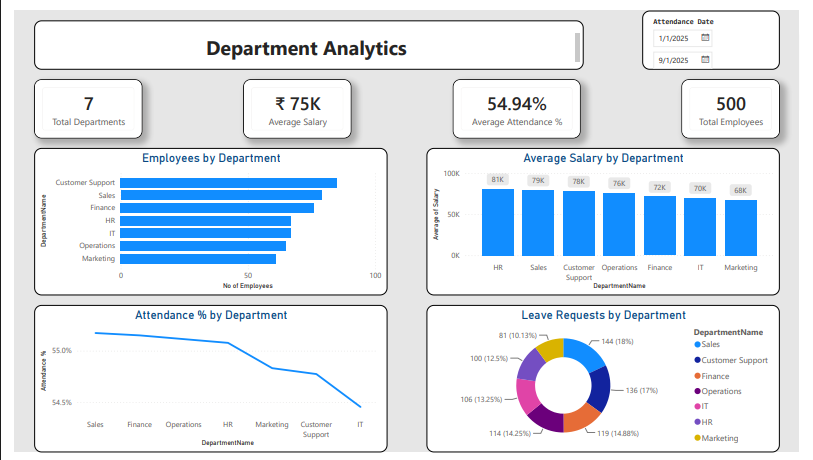

The page's visual inventory and layout, read from the dashboard file:
{"tool":"powerbi","page":{"name":"Department Analytics","canvas":[1280,720],"ordinal":2},"visuals":[{"type":"textbox","box":[32,16,896,80],"z":0},{"type":"slicer","fields":{"Values":["Attendance.AttendanceDate"]},"box":[1024,0,224,96],"z":1000},{"type":"cardVisual","fields":{"Data":["Measures (2).Department Count"]},"box":[32,112,176,96],"z":2000},{"type":"cardVisual","fields":{"Data":["Measures (2).Average Salary"]},"box":[373.3,112,176,96],"z":3000},{"type":"cardVisual","fields":{"Data":["Measures (2).Attendance %"]},"box":[714.7,112,208,96],"z":4000},{"type":"cardVisual","fields":{"Data":["Measures (2).Total Employees"]},"box":[1088,112,160,96],"z":5000},{"type":"clusteredBarChart","title":"Employees by Department","fields":{"Category":["Departments.DepartmentName"],"Y":["CountNonNull(Employees.EmployeeID)"]},"box":[32,224,576,240],"z":6000},{"type":"clusteredColumnChart","title":"Average Salary by Department","fields":{"Category":["Departments.DepartmentName"],"Y":["Avg(Employees.Salary)"]},"box":[672,224,576,240],"z":7000},{"type":"lineChart","title":"Attendance % by Department","fields":{"Category":["Departments.DepartmentName"],"Y":["Measures (2).Attendance %"]},"box":[32,480,576,240],"z":8000},{"type":"donutChart","title":"Leave Requests by Department","fields":{"Category":["Departments.DepartmentName"],"Y":["CountNonNull(LeaveRequests.LeaveID)"]},"box":[672,480,576,240],"z":9000}]}

Visuals, with their boxes in screenshot pixels (x1, y1, x2, y2), scaled from the page's 1280x720 canvas onto the 813x460 screenshot:
textbox: (left=20, top=10, right=589, bottom=61)
slicer - Attendance.AttendanceDate: (left=650, top=0, right=793, bottom=61)
cardVisual - Measures (2).Department Count: (left=20, top=72, right=132, bottom=133)
cardVisual - Measures (2).Average Salary: (left=237, top=72, right=349, bottom=133)
cardVisual - Measures (2).Attendance %: (left=454, top=72, right=586, bottom=133)
cardVisual - Measures (2).Total Employees: (left=691, top=72, right=793, bottom=133)
"Employees by Department" clusteredBarChart: (left=20, top=143, right=386, bottom=296)
"Average Salary by Department" clusteredColumnChart: (left=427, top=143, right=793, bottom=296)
"Attendance % by Department" lineChart: (left=20, top=307, right=386, bottom=459)
"Leave Requests by Department" donutChart: (left=427, top=307, right=793, bottom=459)
